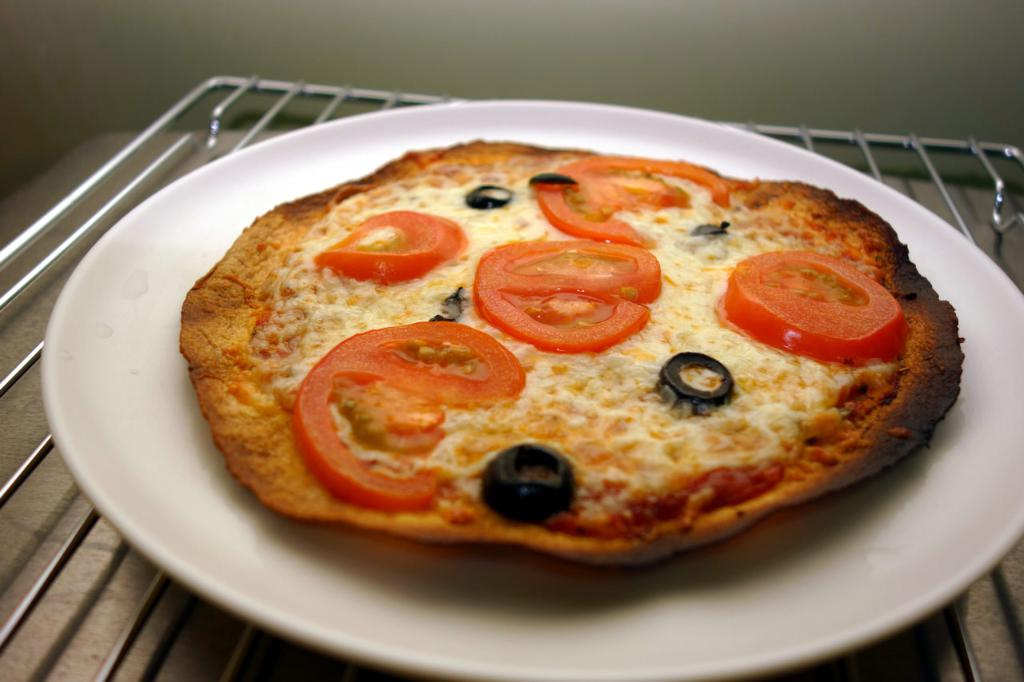Pizza: (150, 139, 988, 571)
